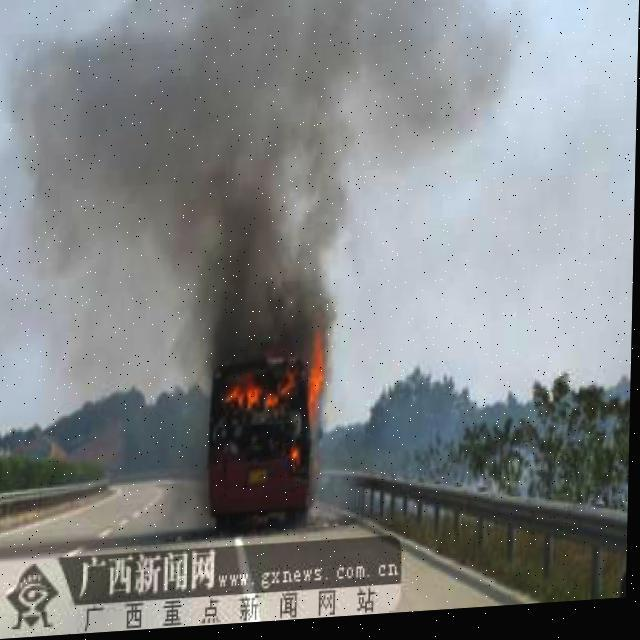Fire: (206, 326, 332, 478)
